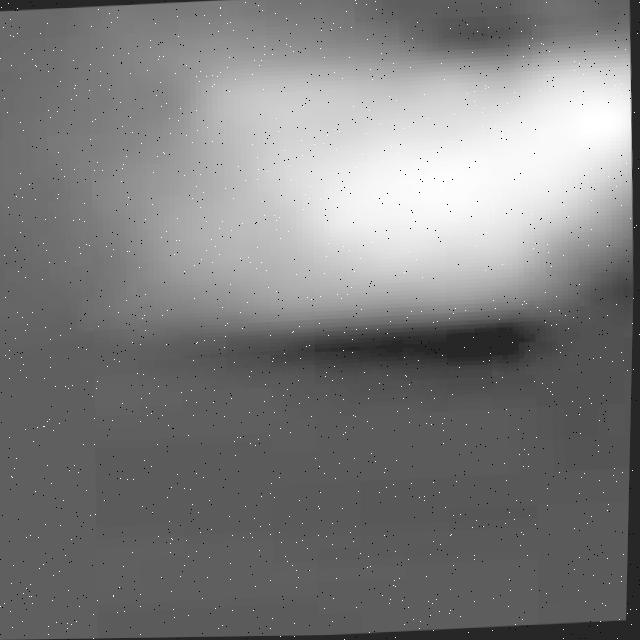person: (62, 15, 640, 337)
